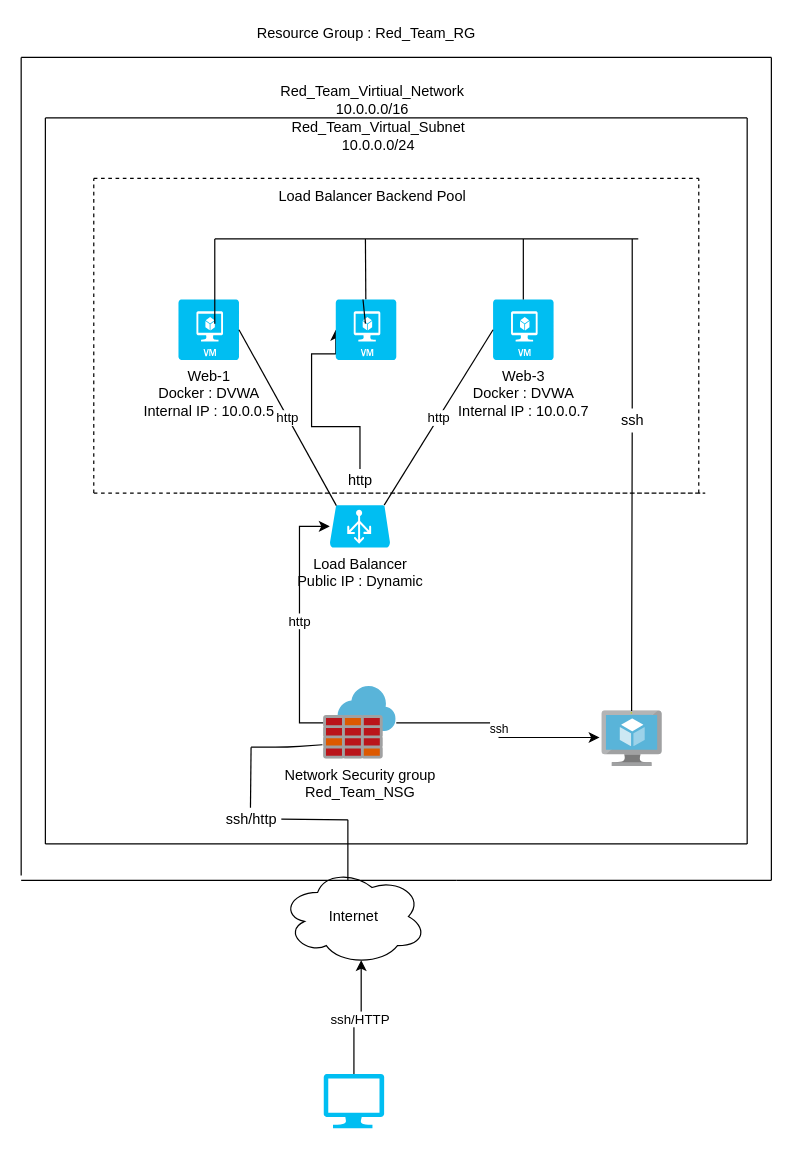
Image size: 794x1174. Some labels were removed from this diagram. Each missing label, with the box of its shape:
JumpBox VM Docker : Ansible IP : 10.0.0.1: (601, 710, 662, 766)
Local Host: (323, 1073, 384, 1128)
Web-2 Docker : DVWA Internal IP : 10.0.0.6: (335, 299, 396, 359)
